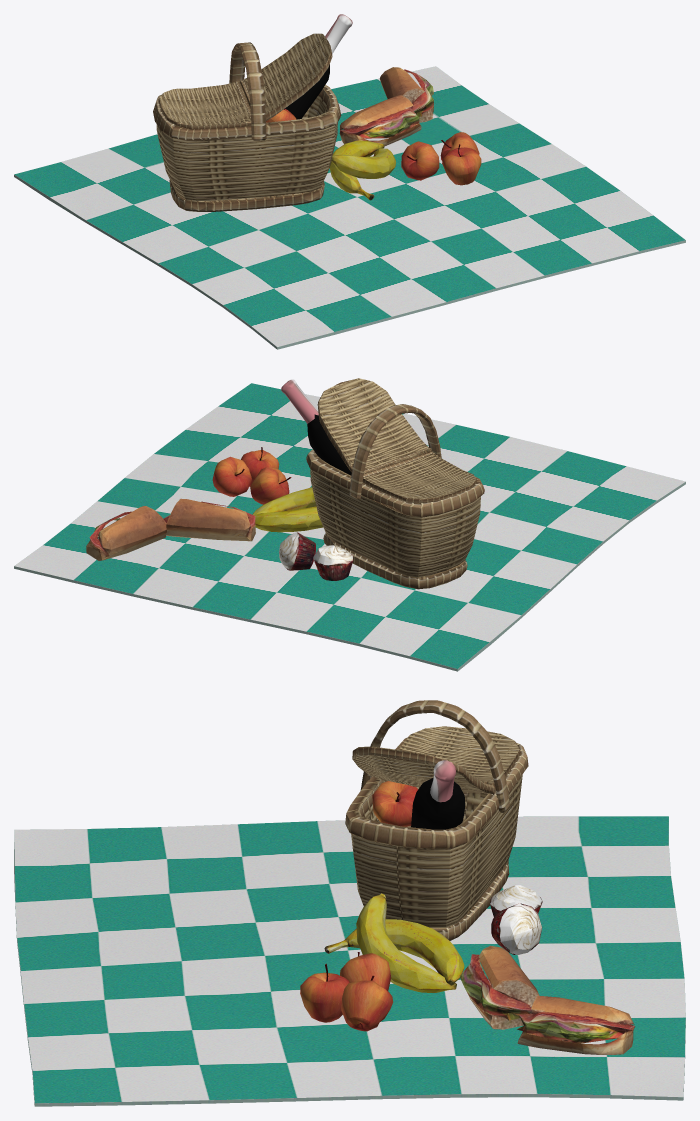
3 renders of one model, top to bottom at view 1: azimuth 30°, elevation 25°; view 2: azimuth 150°, elevation 25°; view 3: azimuth 270°, elevation 25°, orthographic. The views are drawn at different scales.
Visible parts, largest first — view 1: Farbric, polySurface19, polySurface22, polySurface16, Sub Sandwich, polySurface23, Sub Sandwich1, Banana, polySurface6, Banana001, polySurface24, polySurface26 (+1 smaller); view 2: Farbric, polySurface19, polySurface22, polySurface16, Sub Sandwich, Sub Sandwich1, polySurface23, polySurface6, Banana001, polySurface27, Spice Cupcake1, Spice Cupcake2 (+3 smaller); view 3: Farbric, polySurface19, Sub Sandwich1, Sub Sandwich, polySurface16, Banana, polySurface22, Banana001, polySurface23, polySurface6, polySurface27, Spice Cupcake1 (+4 smaller).
Boxes of the visible parts, left/top/right/bottom form: Farbric: left=14, top=66, right=685, bottom=349; polySurface19: left=153, top=84, right=341, bottom=211; polySurface22: left=240, top=33, right=332, bottom=120; polySurface16: left=158, top=80, right=251, bottom=129; Sub Sandwich: left=339, top=95, right=421, bottom=146; polySurface23: left=229, top=42, right=266, bottom=140; Sub Sandwich1: left=379, top=67, right=433, bottom=122; Banana: left=331, top=148, right=396, bottom=178; polySurface6: left=285, top=14, right=352, bottom=119; Banana001: left=329, top=140, right=384, bottom=200; polySurface24: left=401, top=141, right=439, bottom=180; polySurface26: left=442, top=144, right=481, bottom=185; Farbric: left=14, top=383, right=685, bottom=671; polySurface19: left=306, top=449, right=484, bottom=589; polySurface22: left=317, top=378, right=431, bottom=474; polySurface16: left=362, top=451, right=476, bottom=502; Sub Sandwich: left=163, top=498, right=255, bottom=541; Sub Sandwich1: left=86, top=506, right=167, bottom=560; polySurface23: left=349, top=404, right=441, bottom=499; polySurface6: left=281, top=379, right=351, bottom=475; Banana001: left=254, top=506, right=323, bottom=532; polySurface27: left=212, top=456, right=251, bottom=496; Spice Cupcake1: left=279, top=532, right=315, bottom=570; Spice Cupcake2: left=313, top=545, right=353, bottom=580; Farbric: left=14, top=816, right=685, bottom=1106; polySurface19: left=345, top=737, right=528, bottom=940; Sub Sandwich1: left=517, top=995, right=634, bottom=1054; Sub Sandwich: left=459, top=945, right=539, bottom=1029; polySurface16: left=398, top=726, right=520, bottom=791; Banana: left=356, top=893, right=456, bottom=992; polySurface22: left=352, top=746, right=494, bottom=794; Banana001: left=324, top=919, right=464, bottom=985; polySurface23: left=360, top=700, right=509, bottom=812; polySurface6: left=411, top=760, right=465, bottom=829; polySurface27: left=341, top=975, right=393, bottom=1031; Spice Cupcake1: left=491, top=903, right=542, bottom=954.
Size of the model in its own units: 0.3614 by 0.1289 by 0.3574.
